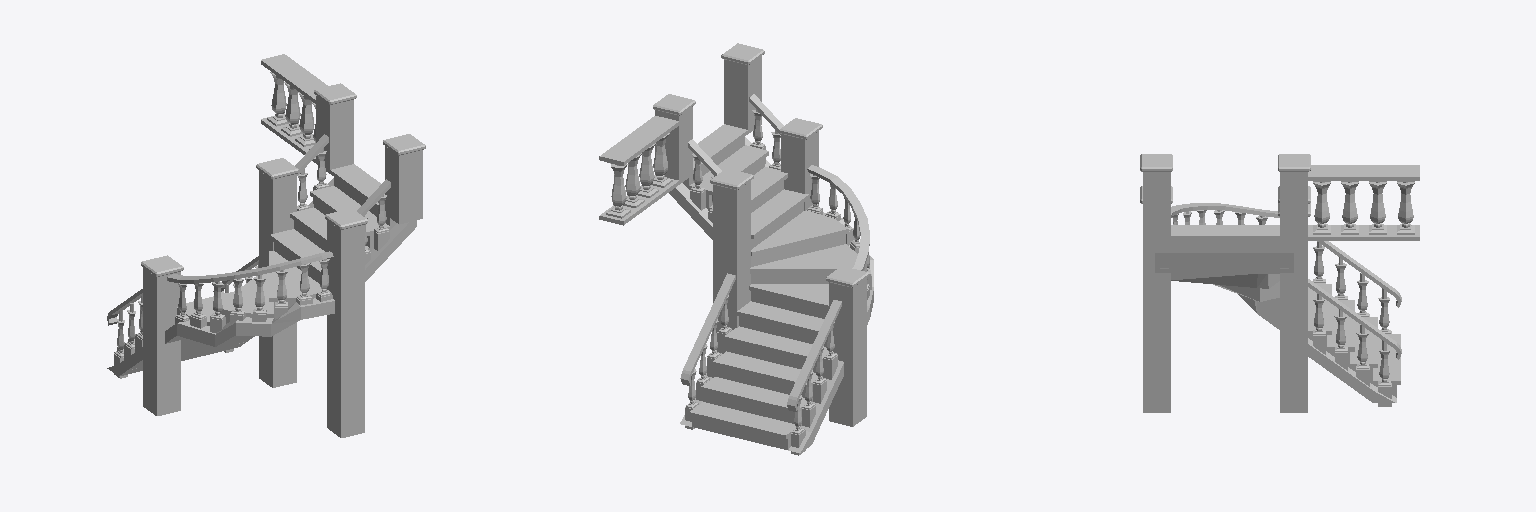
The model's file is plotek z kolumnami.obj.
The picture shows the model from 3 angles: view 1: azimuth 30°, elevation 25°; view 2: azimuth 150°, elevation 25°; view 3: azimuth 270°, elevation 25°; orthographic projection.
Visible parts, largest first — view 1: BezierCurve_CUBezierCurve.002, column.003_Plane.011, column.002_Plane.010, column.001_Plane.009, slab_Plane, column.004_Plane.013, column_Plane.003, slab.015_Plane.027, slab.012_Plane.024, slab.011_Plane.023, slab.010_Plane.022, slab.013_Plane.025 (+7 smaller); view 2: BezierCurve_CUBezierCurve.002, slab_Plane, column.001_Plane.009, column.002_Plane.010, column.004_Plane.013, column.003_Plane.011, slab.015_Plane.027, column_Plane.003, slab.014_Plane.026, slab.005_Plane.021, slab.010_Plane.022, slab.009_Plane.017 (+5 smaller); view 3: BezierCurve_CUBezierCurve.002, slab_Plane, column.001_Plane.009, column.003_Plane.011, slab.014_Plane.026, column_Plane.003, column.004_Plane.013, slab.015_Plane.027, slab.001_Plane.012, slab.002_Plane.006.
Boxes of the visible parts, x1,y1,x2,y2 form: BezierCurve_CUBezierCurve.002: [107, 134, 416, 376]; column.003_Plane.011: [327, 220, 364, 437]; column.002_Plane.010: [143, 268, 180, 415]; column.001_Plane.009: [259, 171, 296, 387]; slab_Plane: [261, 54, 327, 162]; column.004_Plane.013: [385, 146, 422, 224]; column_Plane.003: [316, 96, 353, 173]; slab.015_Plane.027: [114, 295, 142, 378]; slab.012_Plane.024: [210, 278, 245, 332]; slab.011_Plane.023: [252, 270, 287, 321]; slab.010_Plane.022: [296, 259, 332, 305]; slab.013_Plane.025: [175, 283, 206, 328]; BezierCurve_CUBezierCurve.002: [669, 94, 873, 452]; slab_Plane: [599, 116, 678, 225]; column.001_Plane.009: [713, 181, 750, 332]; column.002_Plane.010: [829, 278, 866, 426]; column.004_Plane.013: [724, 56, 761, 132]; column.003_Plane.011: [781, 131, 818, 210]; slab.015_Plane.027: [791, 322, 837, 455]; column_Plane.003: [655, 107, 692, 184]; slab.014_Plane.026: [685, 295, 731, 429]; slab.005_Plane.021: [750, 109, 780, 169]; slab.010_Plane.022: [807, 174, 840, 220]; slab.009_Plane.017: [690, 154, 714, 222]; BezierCurve_CUBezierCurve.002: [1155, 203, 1401, 402]; slab_Plane: [1308, 165, 1419, 240]; column.001_Plane.009: [1280, 241, 1307, 412]; column.003_Plane.011: [1143, 241, 1170, 412]; slab.014_Plane.026: [1313, 294, 1391, 406]; column_Plane.003: [1280, 172, 1307, 240]; column.004_Plane.013: [1143, 172, 1170, 240]; slab.015_Plane.027: [1313, 242, 1391, 333]; slab.001_Plane.012: [1140, 154, 1172, 171]; slab.002_Plane.006: [1278, 154, 1310, 171].
Size of the model in its own units: 16.68 by 21.8 by 20.05.